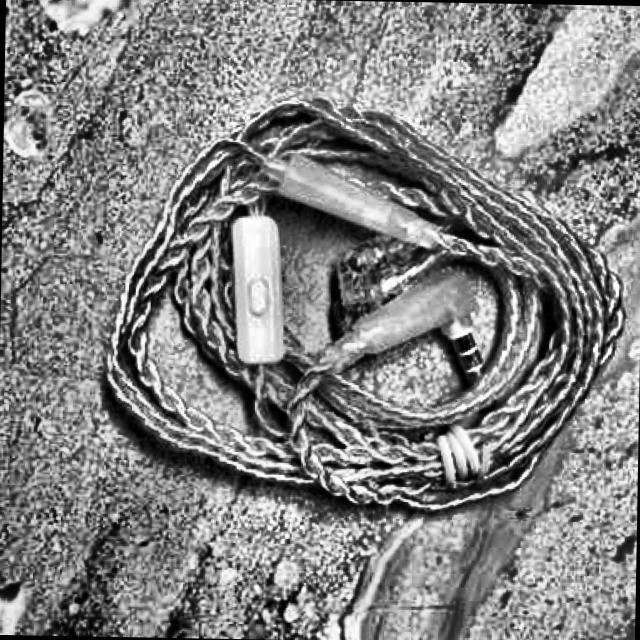Cable: (104, 90, 636, 517)
